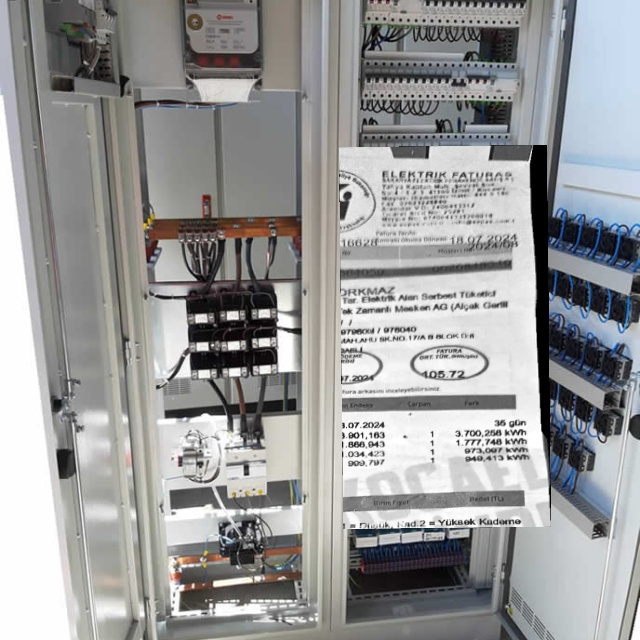electricity-bill: (338, 144, 550, 528)
